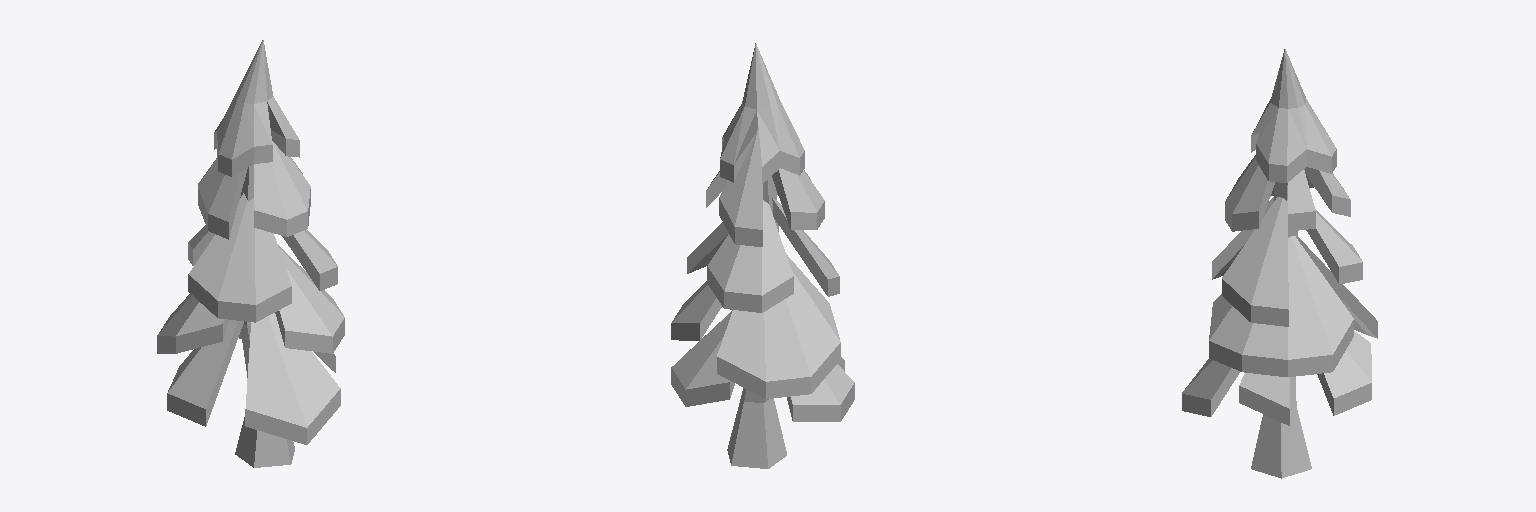
File: paintable_Tree_2.obj
3 renders of one model, left to right at view 1: azimuth 30°, elevation 25°; view 2: azimuth 150°, elevation 25°; view 3: azimuth 270°, elevation 25°, orthographic.
Parts seen in each view (by area): view 1: SM_Generic_Tree_02_Mesh.013; view 2: SM_Generic_Tree_02_Mesh.013; view 3: SM_Generic_Tree_02_Mesh.013.
Part boxes in pixels (bbox=[...]): SM_Generic_Tree_02_Mesh.013: bbox=[157, 40, 344, 467]; SM_Generic_Tree_02_Mesh.013: bbox=[671, 43, 854, 468]; SM_Generic_Tree_02_Mesh.013: bbox=[1182, 49, 1377, 478].
Size of the model in its own units: 1.39 by 3.51 by 1.47.